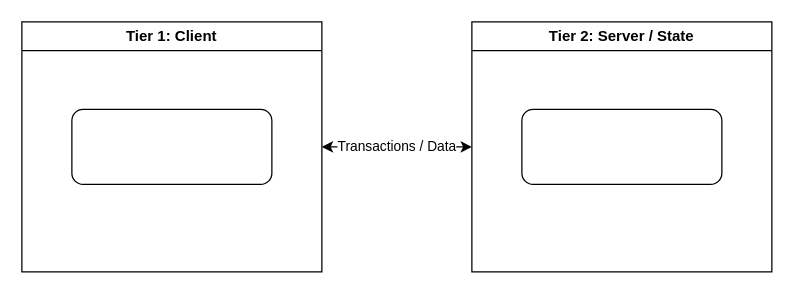
Image size: 794x294. Some labels were removed from this diagram. The shapes that lost their labels are listed below. From the top down, each one's centre as x and y in pixels, then its label:
point 171,146: Web3 Frontend + MetaMask
point 621,146: Ethereum Blockchain + Smart Contract
